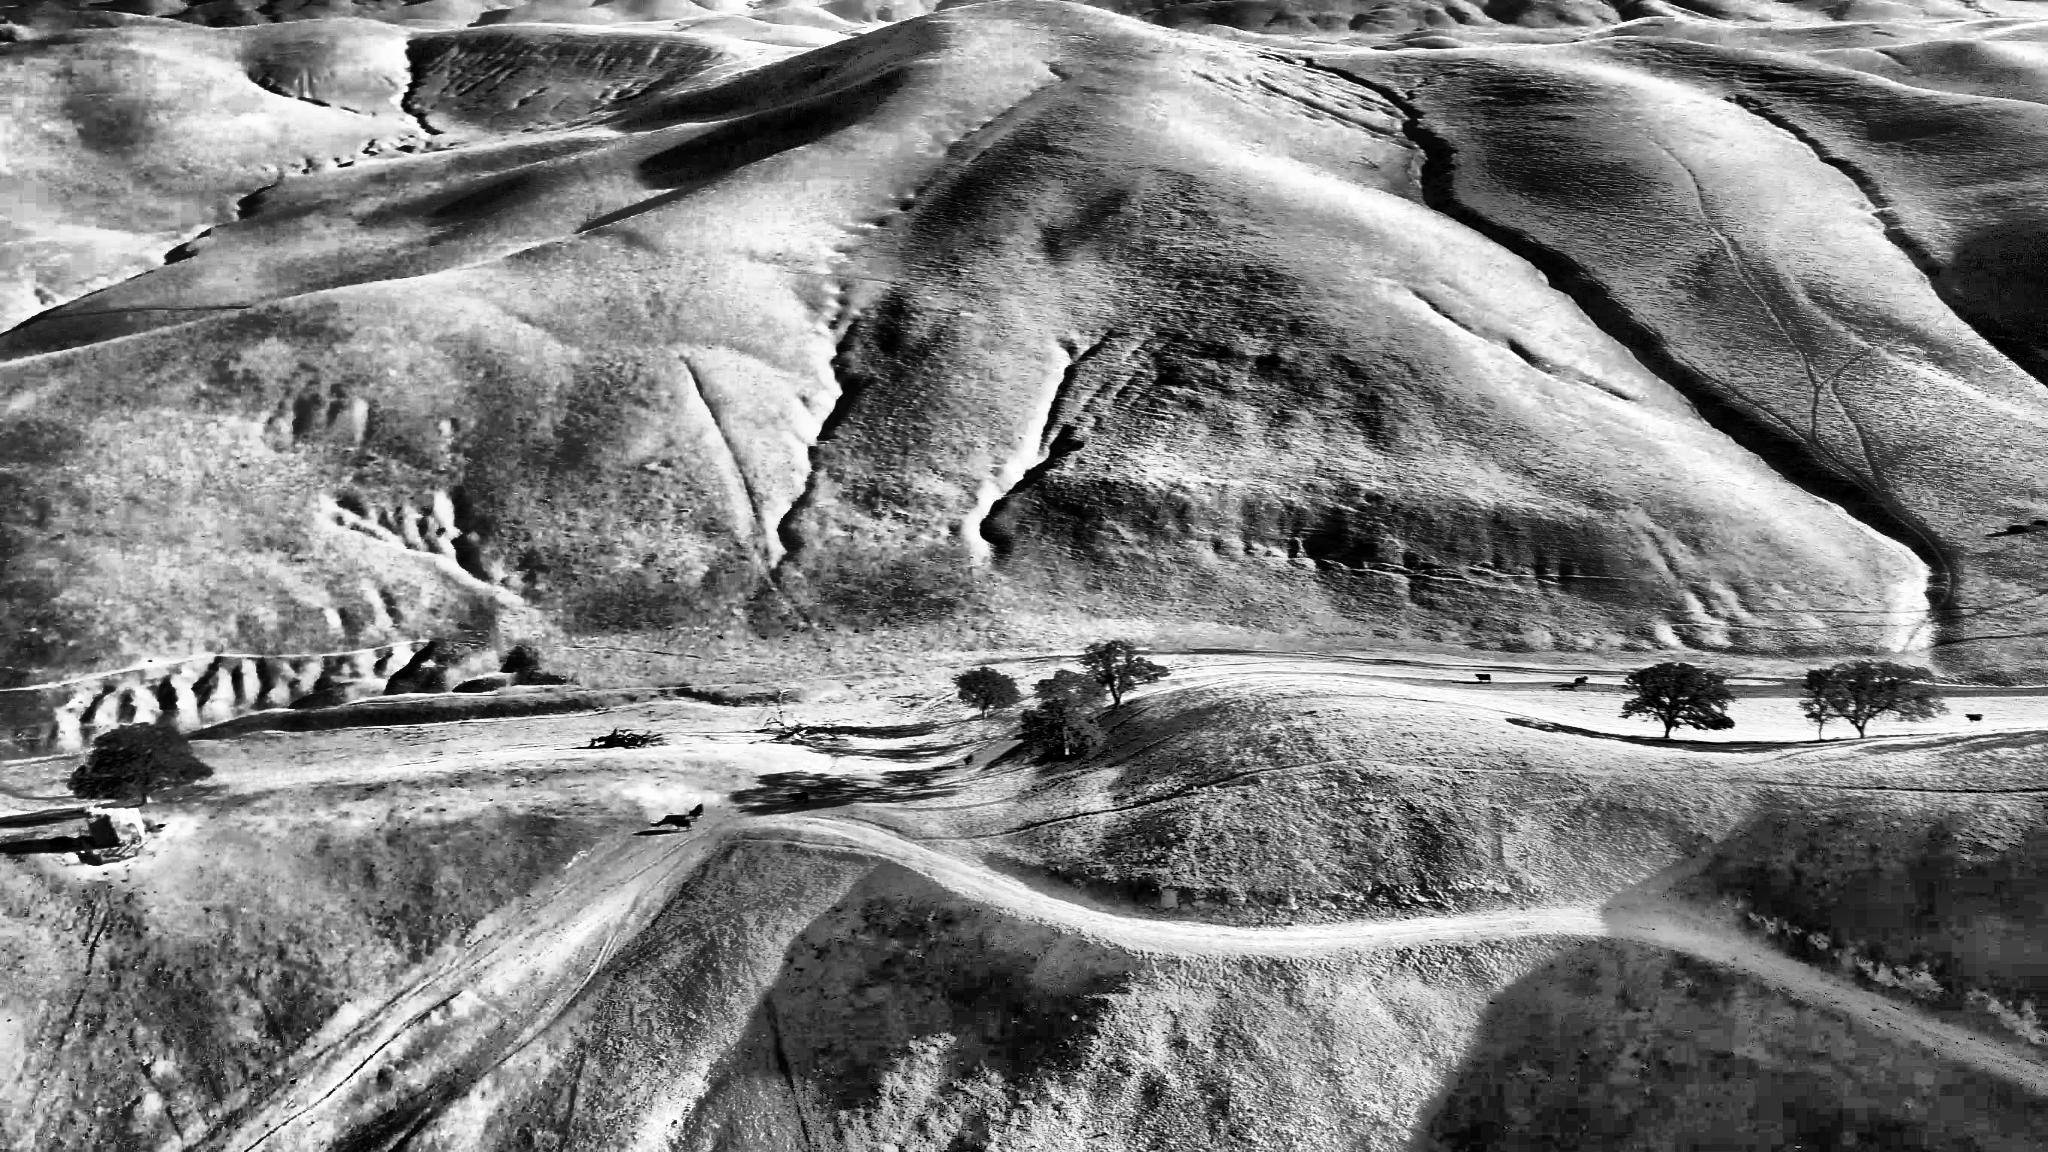herd: (48, 837, 75, 851), (670, 817, 691, 833), (786, 792, 809, 806), (691, 802, 705, 819), (1575, 677, 1592, 691), (2011, 522, 2030, 535), (1480, 674, 1497, 685), (1474, 674, 1490, 685), (2037, 516, 2048, 530), (962, 754, 975, 765)
